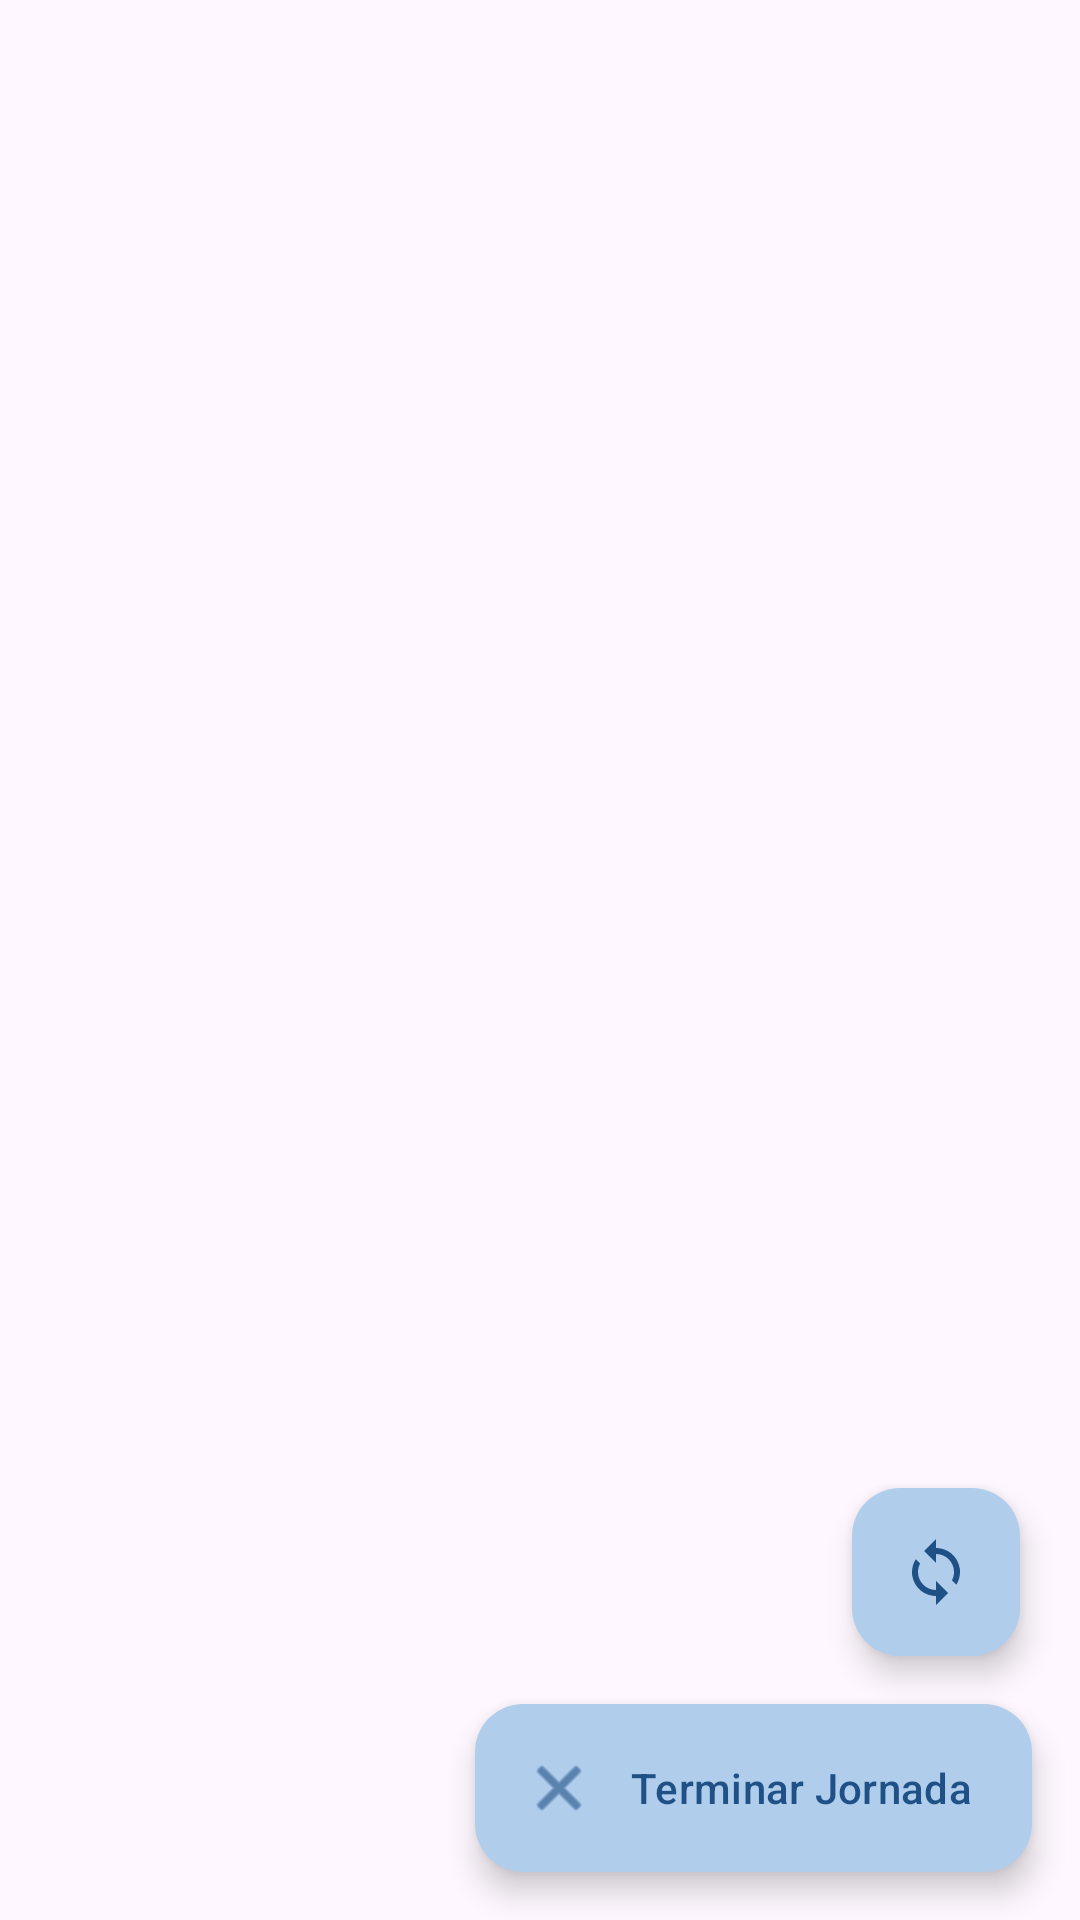

Point at icon controls on the screen. Image size 1080px x 1920px, points as (x,y).
Forzar sincronización: (936,1572)
